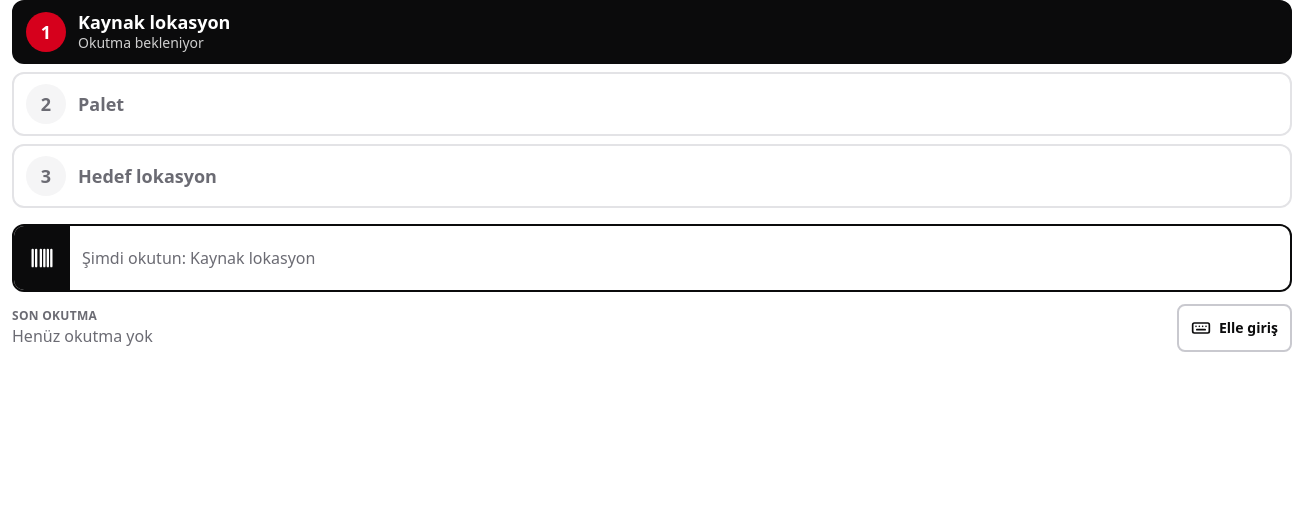
Test: <ScanFlow> › applies the business check and shows the Turkish message for its code
Step 1. Type "TZ-B03-L12" into the field with test id "scan-input" → (680, 258), box [70,226,1290,290]
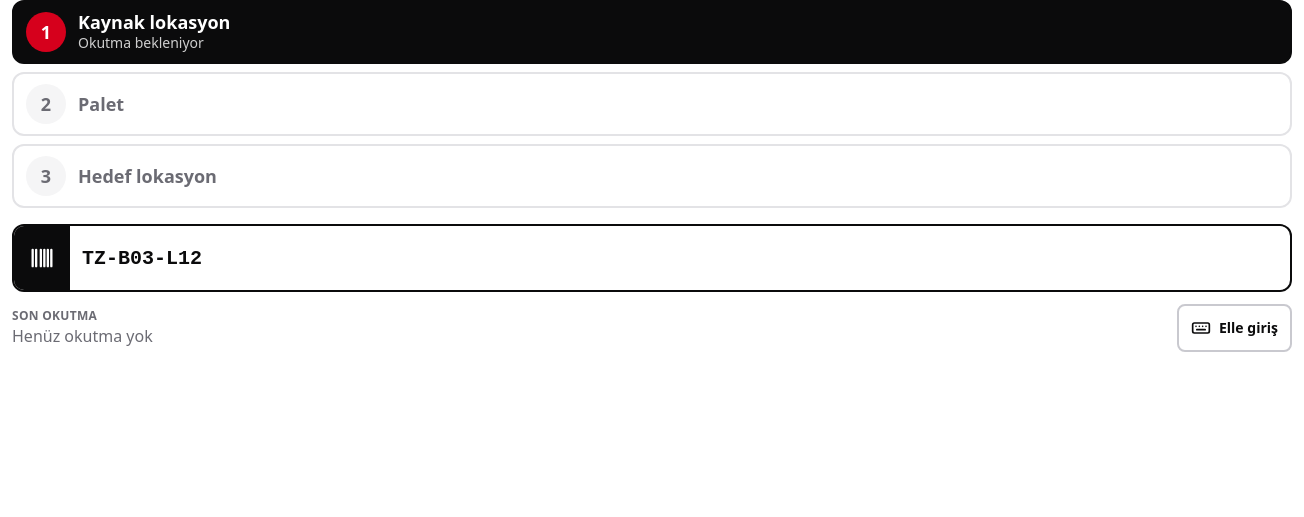
Step 2. Press Enter in the field with test id "scan-input", box [70,226,1290,290]
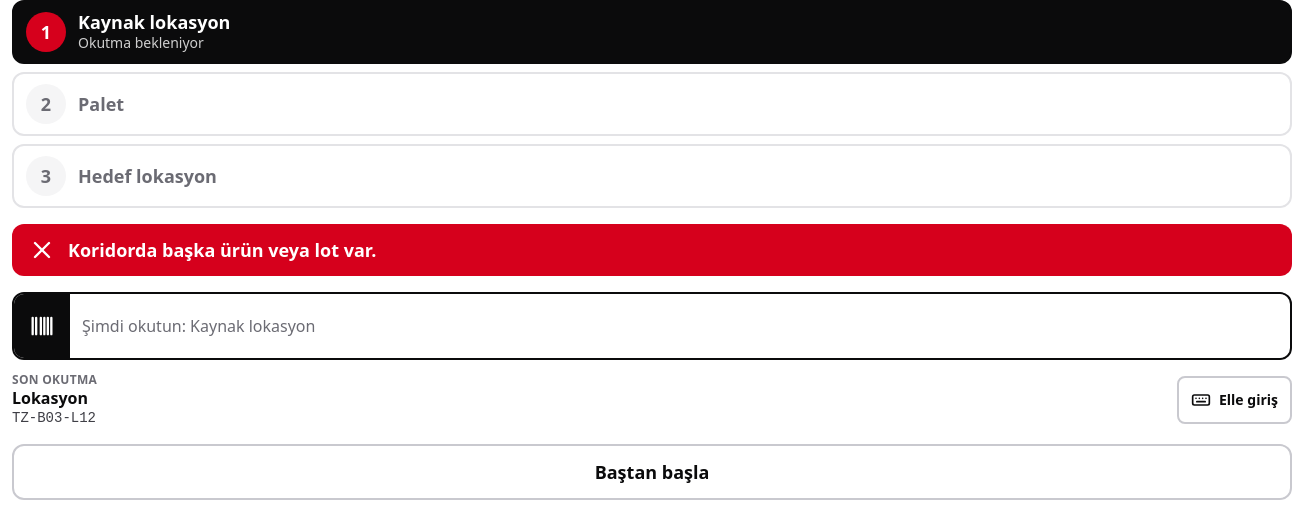
Result: the message with test id "refusal-banner" reads "Koridorda başka ürün veya lot var." at [68,238,376,262]
